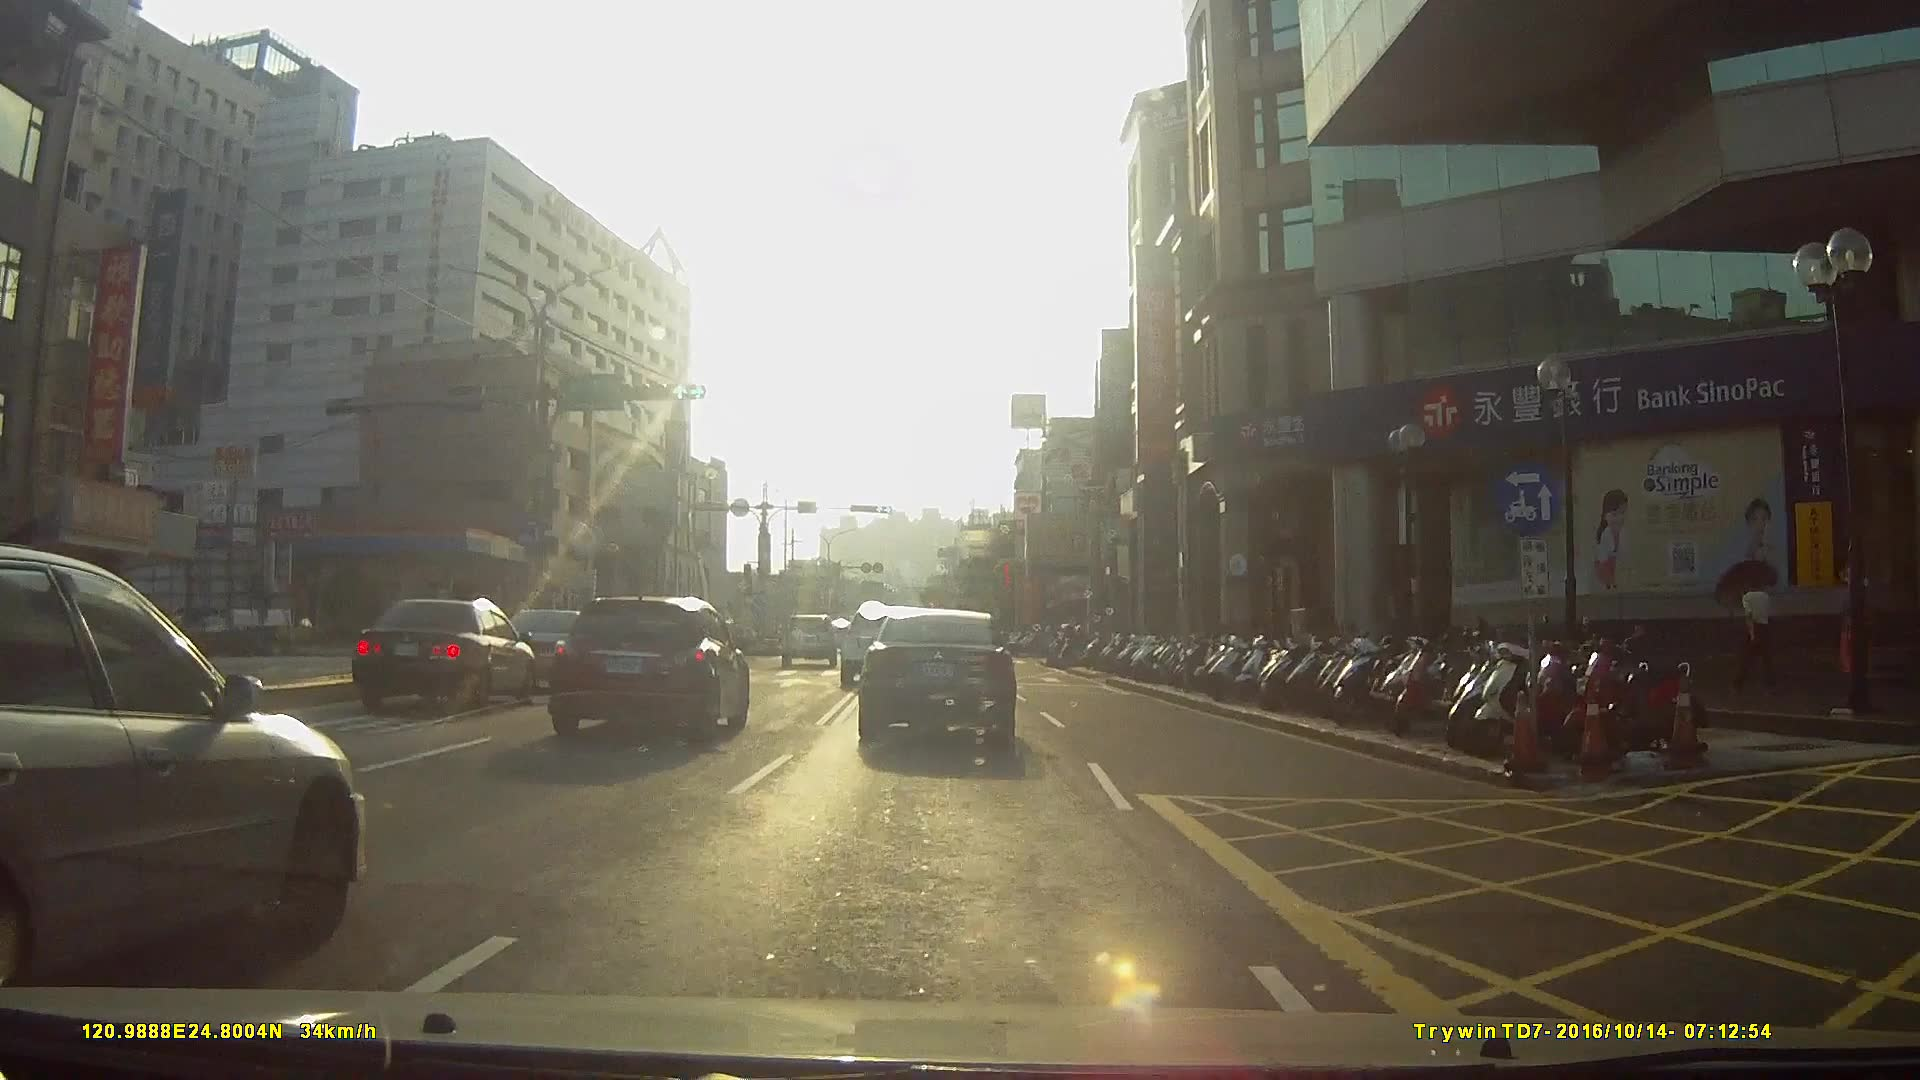pedestrian: (1826, 553, 1878, 718), (1736, 566, 1782, 691)
vehicle: (0, 543, 349, 994), (536, 587, 744, 734), (853, 604, 1015, 751), (349, 598, 543, 719), (477, 608, 602, 693), (780, 613, 840, 671)
